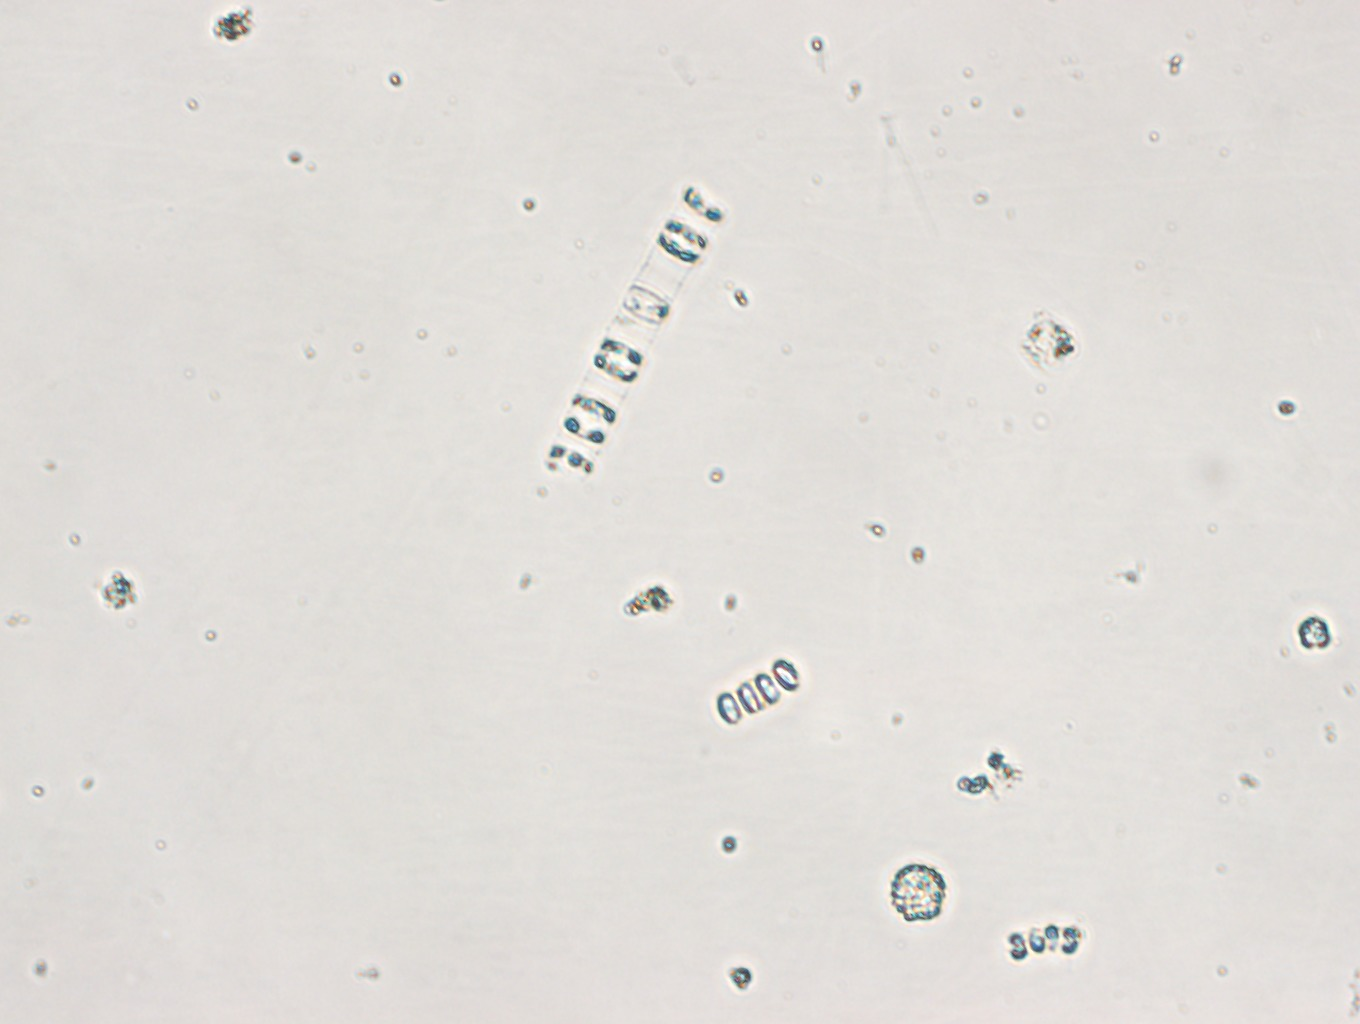skeletonema: (541, 177, 728, 490), (717, 657, 803, 725), (1008, 922, 1084, 962)
